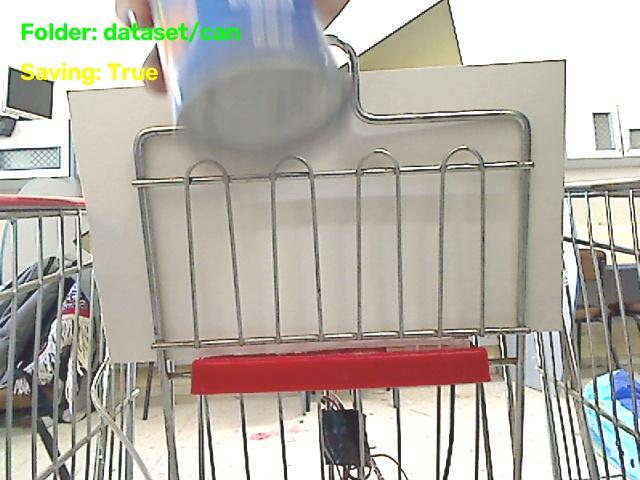can: (155, 0, 350, 160)
